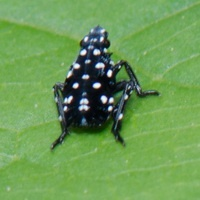insect: (51, 26, 158, 149)
